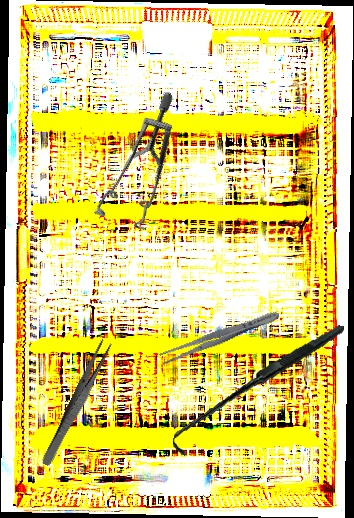Dressing Forceps: (40, 338, 114, 469), (158, 306, 282, 368)
Hook Surgical: (171, 307, 345, 473)
Speculum: (61, 89, 227, 249)
